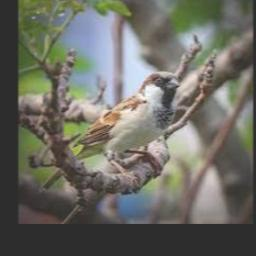Sparrow: (73, 71, 180, 183)
